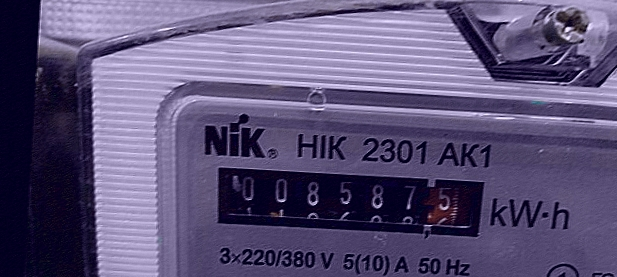0: (237, 172, 256, 202), (271, 175, 290, 204)
5: (435, 184, 454, 214), (335, 178, 354, 207)
7: (399, 180, 418, 211)
8: (367, 179, 386, 210), (303, 178, 321, 207)
screen: (195, 149, 502, 250)
